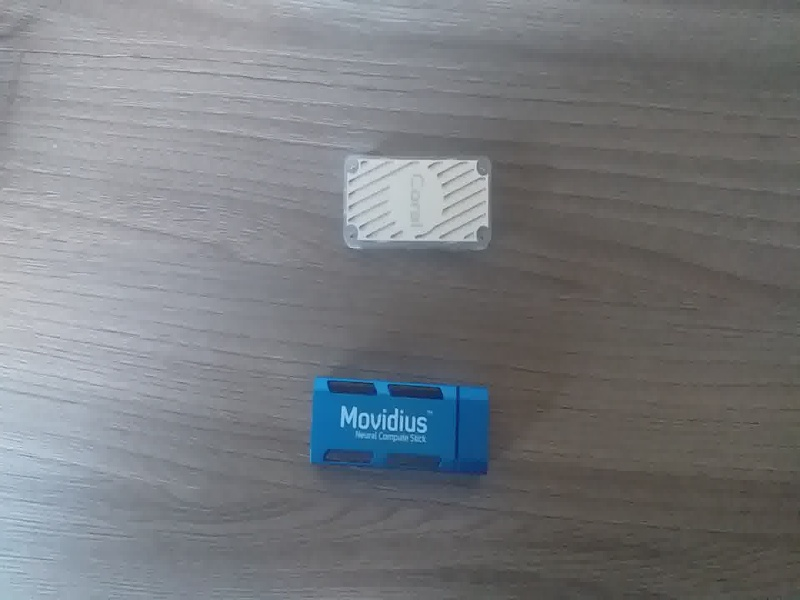coral: (333, 146, 504, 263)
movidius: (304, 368, 503, 481)
